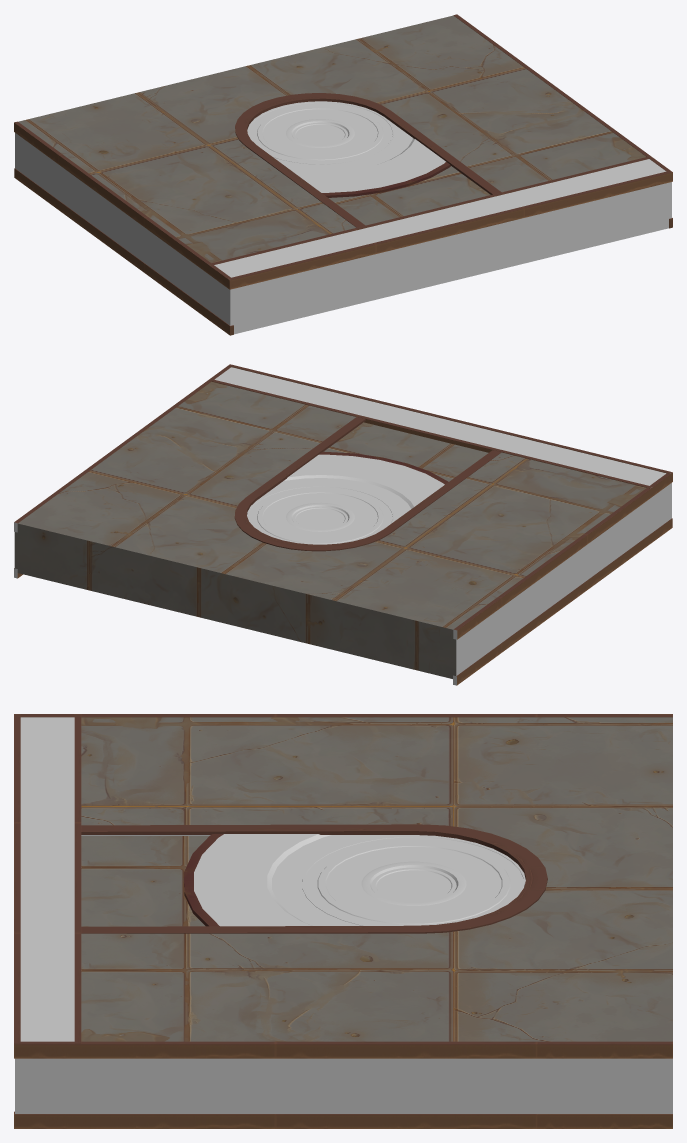
File: prop_platformArena.fbx
3 views of the same model, one above another, from view 1: azimuth 30°, elevation 25°; view 2: azimuth 150°, elevation 25°; view 3: azimuth 270°, elevation 25° (orthographic). The views are drawn at different scales.
Visible parts, largest first — view 1: prop_platformArena, prop_platformArena.006; view 2: prop_platformArena, prop_platformArena.006; view 3: prop_platformArena, prop_platformArena.006.
Part boxes in pixels (x1,y1,x2,y2): prop_platformArena: (14,14,672,335); prop_platformArena.006: (248,103,392,163); prop_platformArena: (14,364,672,685); prop_platformArena.006: (248,486,392,544); prop_platformArena: (14,714,672,1128); prop_platformArena.006: (304,837,523,925).
Size of the model in its own units: 2608 by 315 by 2200.
